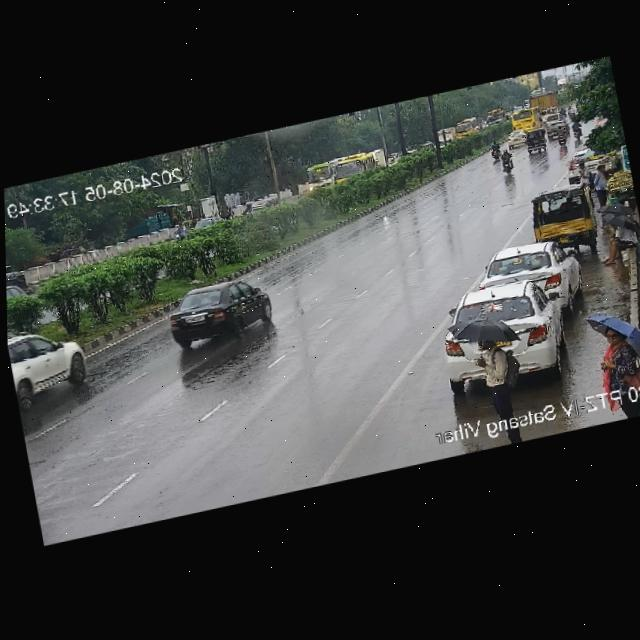bus: (330, 149, 380, 186), (300, 158, 340, 192), (508, 106, 543, 135), (454, 115, 481, 139)
car: (437, 274, 572, 379), (159, 270, 281, 352), (479, 233, 583, 314), (7, 315, 89, 404), (525, 180, 600, 252), (524, 126, 549, 155), (545, 119, 570, 140), (505, 129, 527, 148)
motorcycle: (499, 148, 514, 176), (556, 124, 569, 148), (489, 140, 502, 162), (572, 121, 583, 140)
person: (599, 321, 640, 422), (476, 331, 522, 418), (592, 160, 613, 206), (577, 160, 591, 188)
